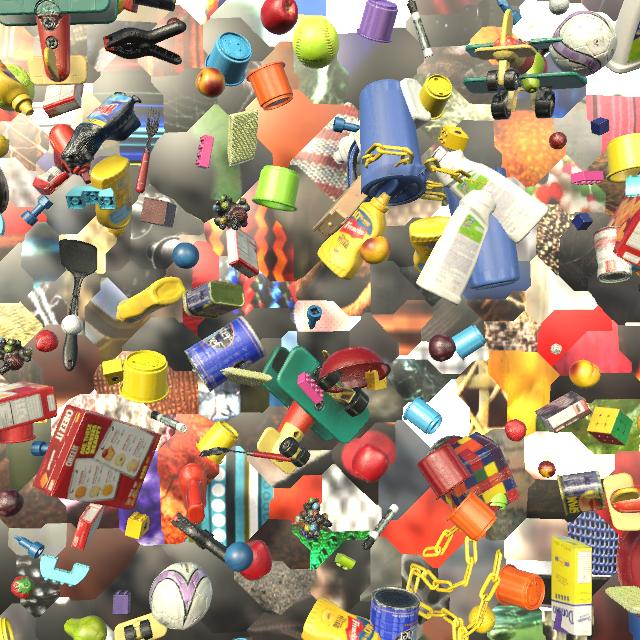ycb_002_master_chef_can: (184, 316, 267, 392), (370, 587, 420, 640)
ycb_003_cracker_box: (33, 404, 161, 510), (606, 171, 640, 267), (0, 381, 58, 432)
ycb_004_sugar_box: (551, 536, 592, 636)
ycb_005_tomato_soup_can: (593, 226, 632, 283)
ycb_006_mustard_bottle: (317, 192, 391, 280), (90, 155, 133, 238), (301, 597, 381, 640), (116, 277, 186, 324), (409, 216, 450, 273), (0, 60, 34, 116)
ycb_008_pudding_box: (535, 391, 593, 434)
ycb_009_gelatin_box: (225, 227, 259, 278), (71, 503, 105, 551), (43, 84, 84, 118)
ycb_010_potted_meat_can: (182, 280, 245, 319), (557, 470, 606, 516), (133, 0, 176, 12)
ycb_012_strawberry: (11, 576, 35, 599), (35, 330, 59, 352), (505, 419, 527, 442)
ycb_013_apple: (352, 443, 390, 483), (260, 0, 298, 35), (239, 540, 272, 580)
ycb_014_lemon: (468, 605, 496, 634), (0, 134, 10, 158), (118, 0, 124, 14)
ycb_015_peach: (569, 360, 601, 389), (196, 67, 225, 98), (360, 236, 391, 265), (637, 414, 640, 431)
ycb_016_pear: (64, 615, 107, 640), (520, 52, 545, 93)
ycb_018_plum: (428, 334, 456, 362), (0, 489, 24, 517)
